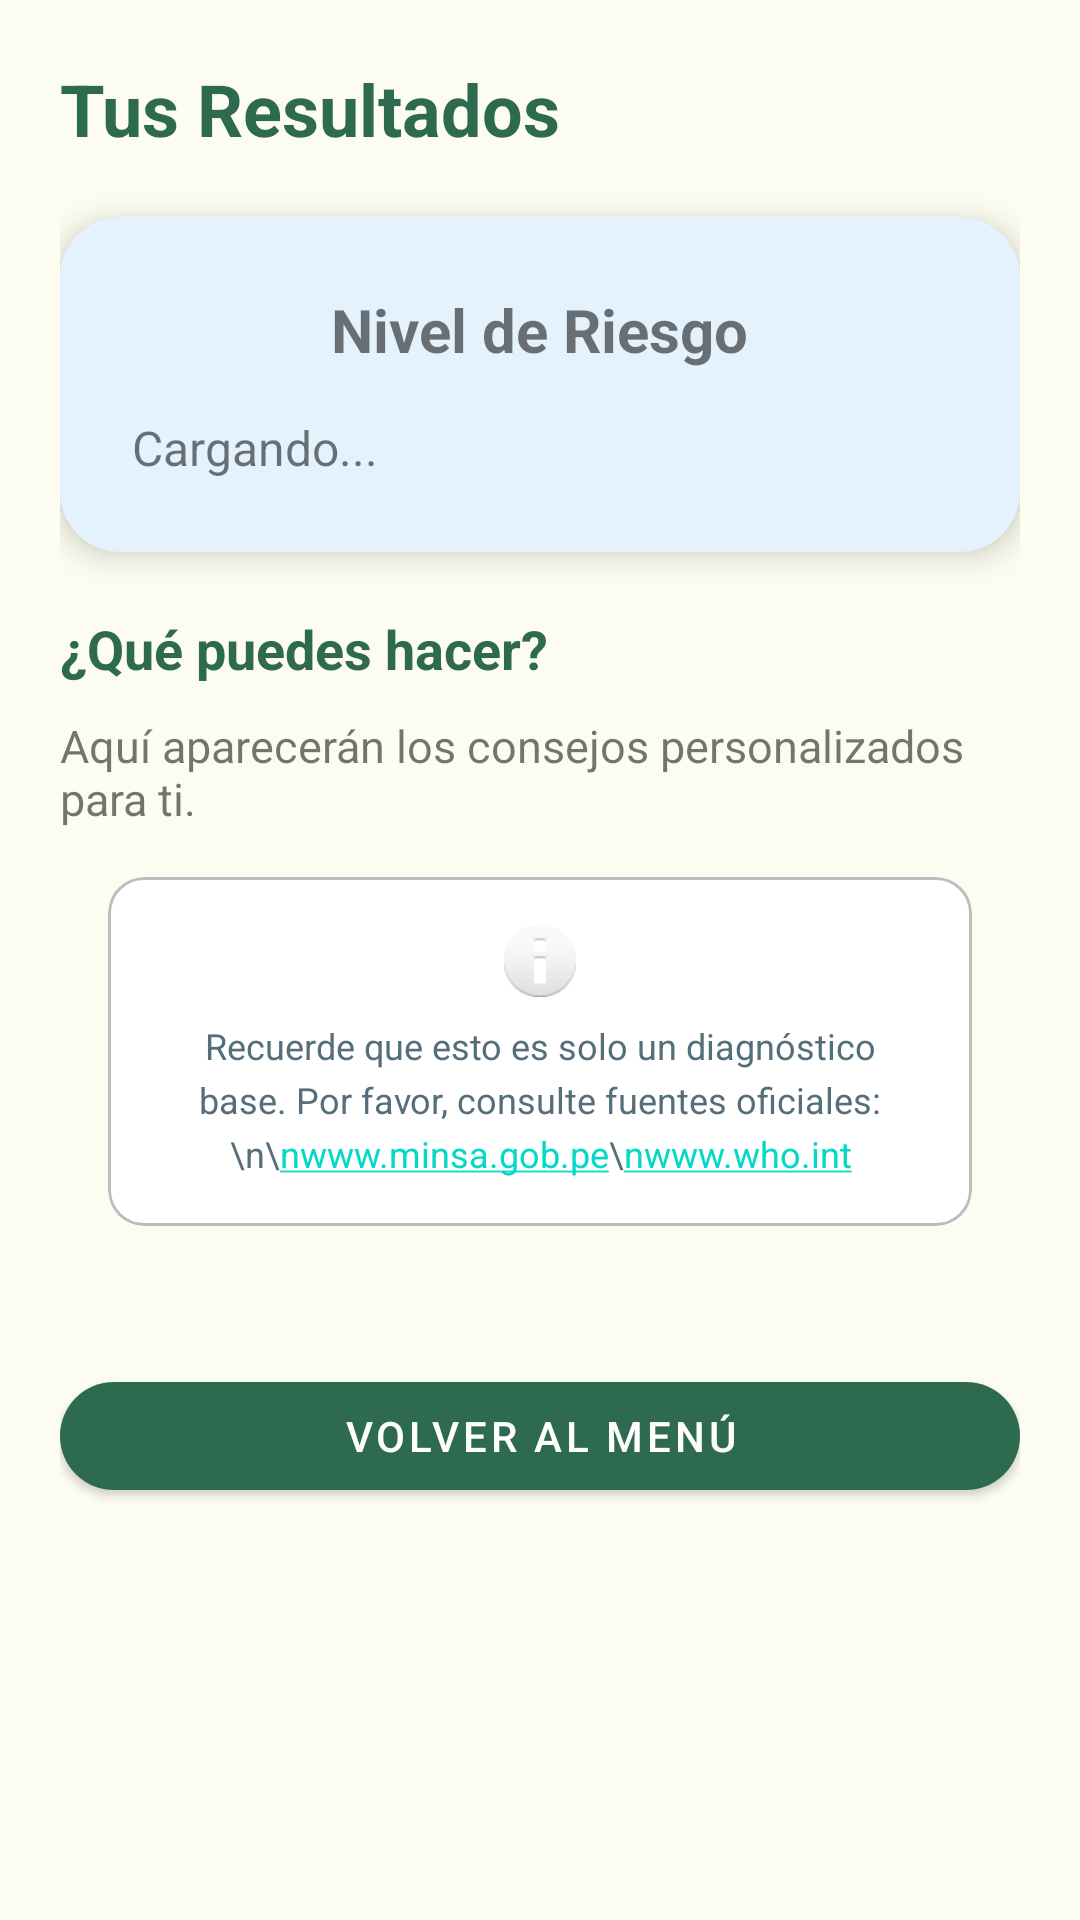

Icon click points for this 1080 x 1920 phone screenshot, format (x=x, y=y):
info: (x=540, y=967)
